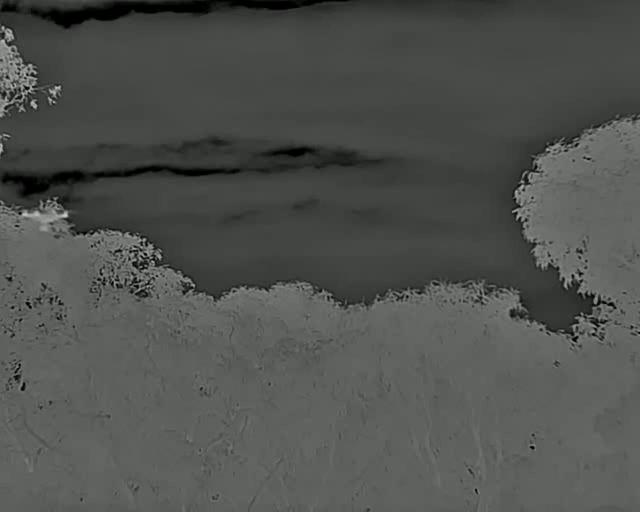DJI-Phantom: (22, 206, 72, 235)
